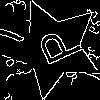P: (28, 23, 84, 72)
